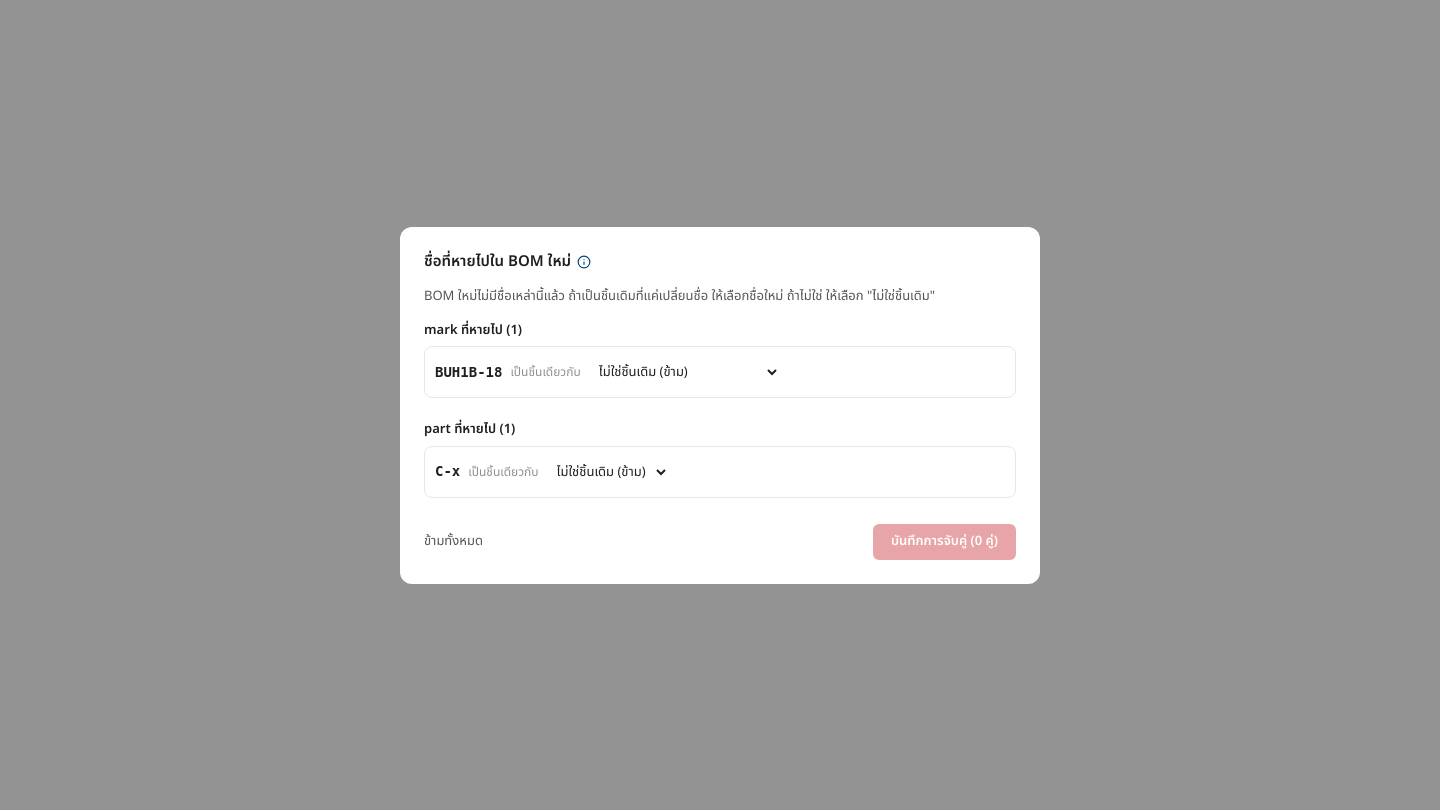
Test: RenamePairDialog › ⓘ explains pairing on hover with the custom tooltip (no native title)
Hover over the element named "อธิบายการจับคู่" at (584, 262), box [577, 255, 591, 269]
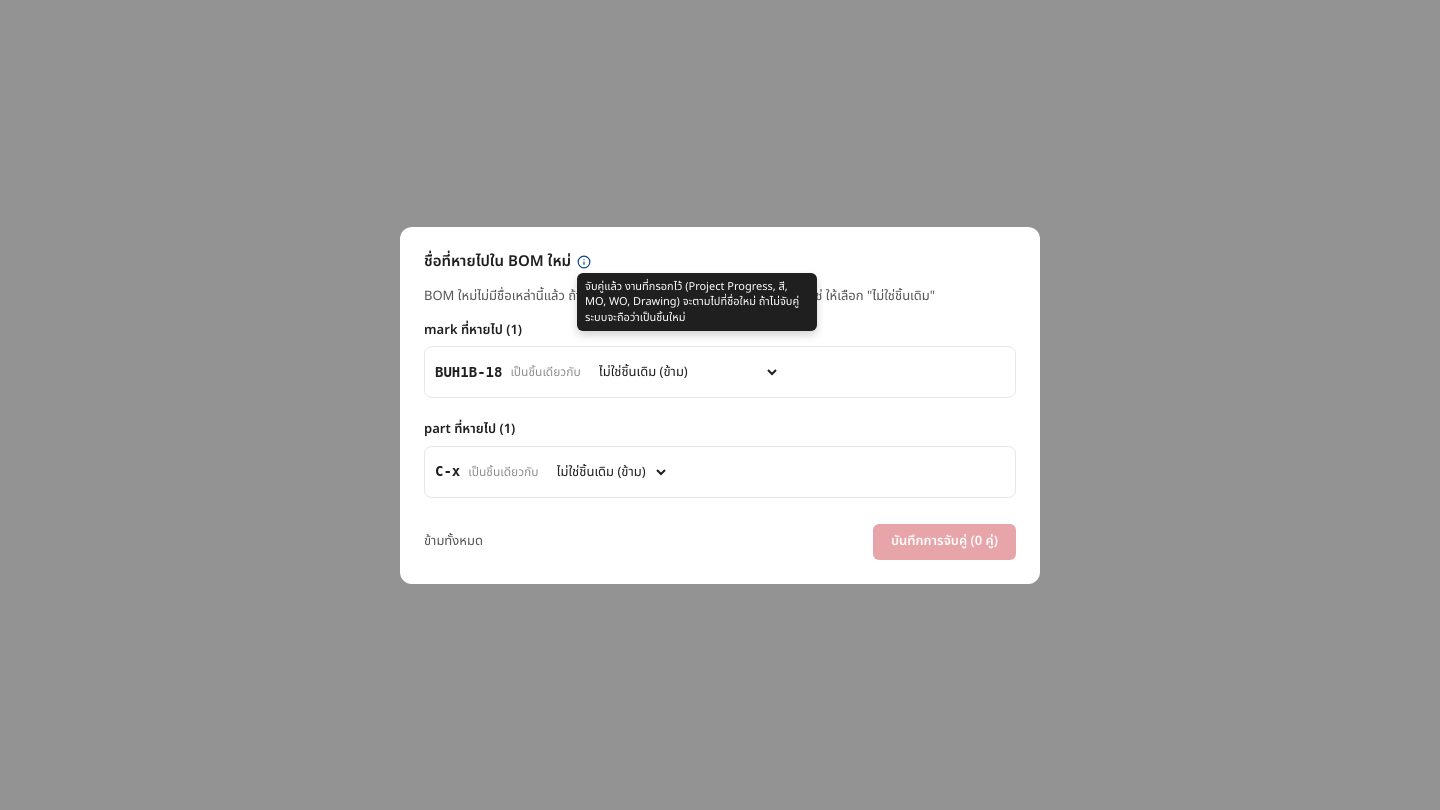
Expected: the tooltip shows "ถ้าไม่จับคู่ ระบบจะถือว่าเป็นชิ้นใหม่", [585, 278, 799, 326]
Move the pointer off the element named "อธิบายการจับคู่", box [577, 255, 591, 269]
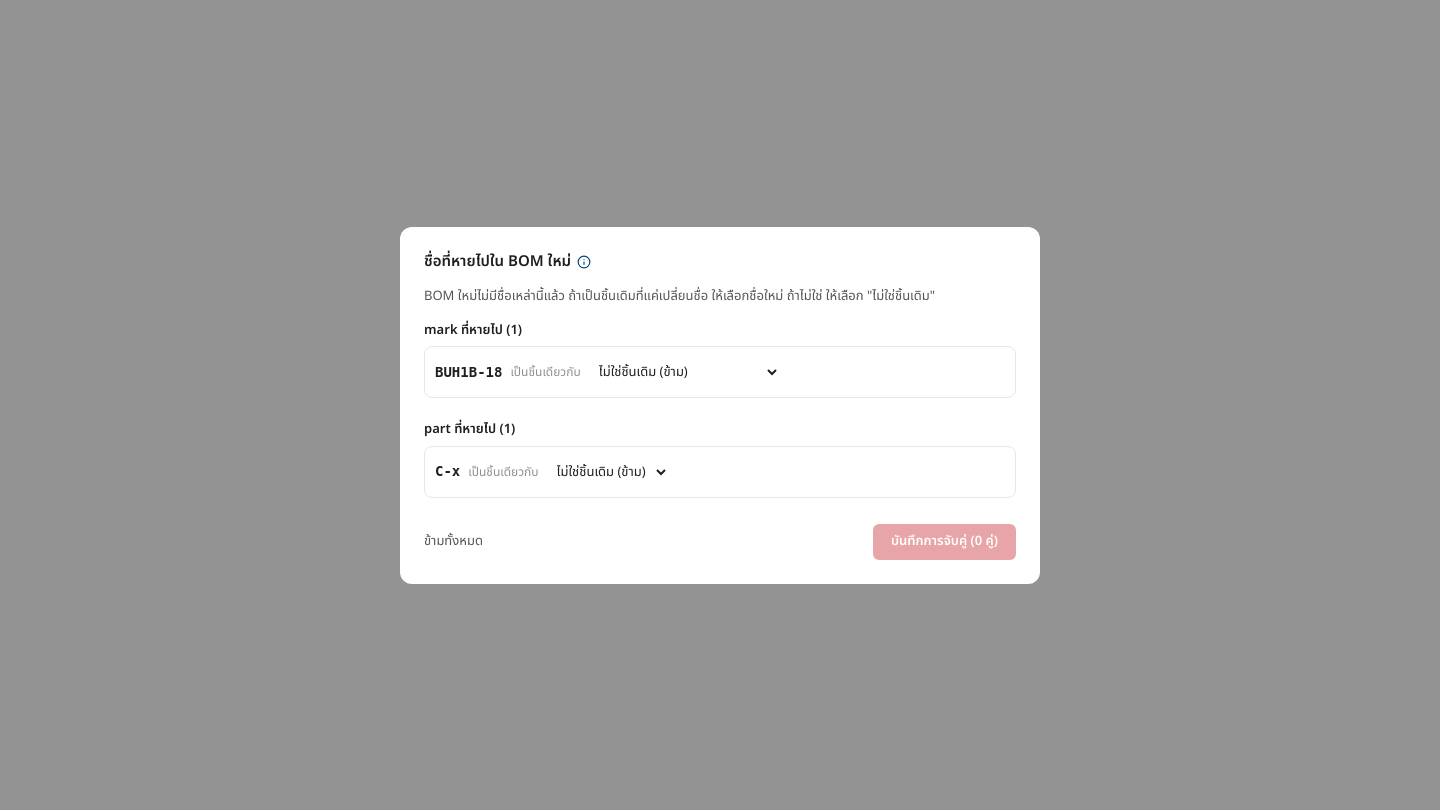
Expected: the tooltip is gone
